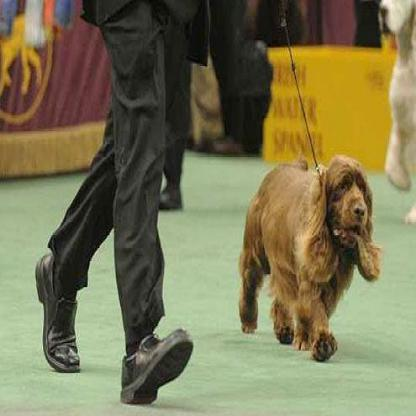Sussex_spaniel: (235, 155, 382, 364)
